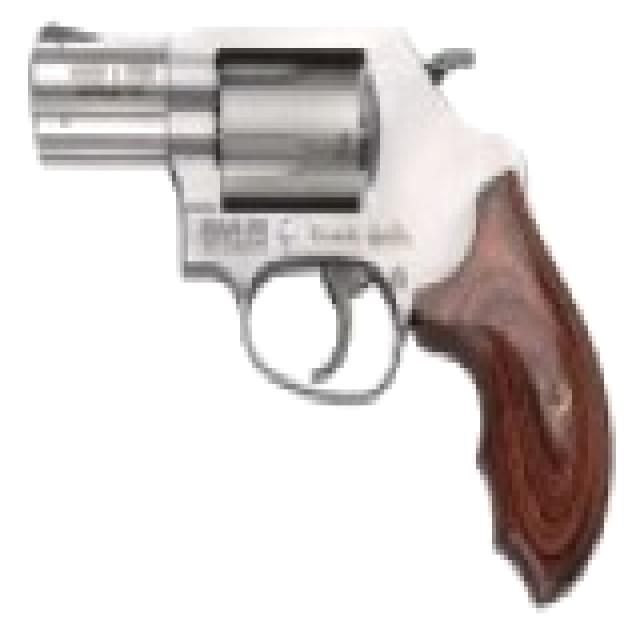pistol: (40, 0, 616, 597)
